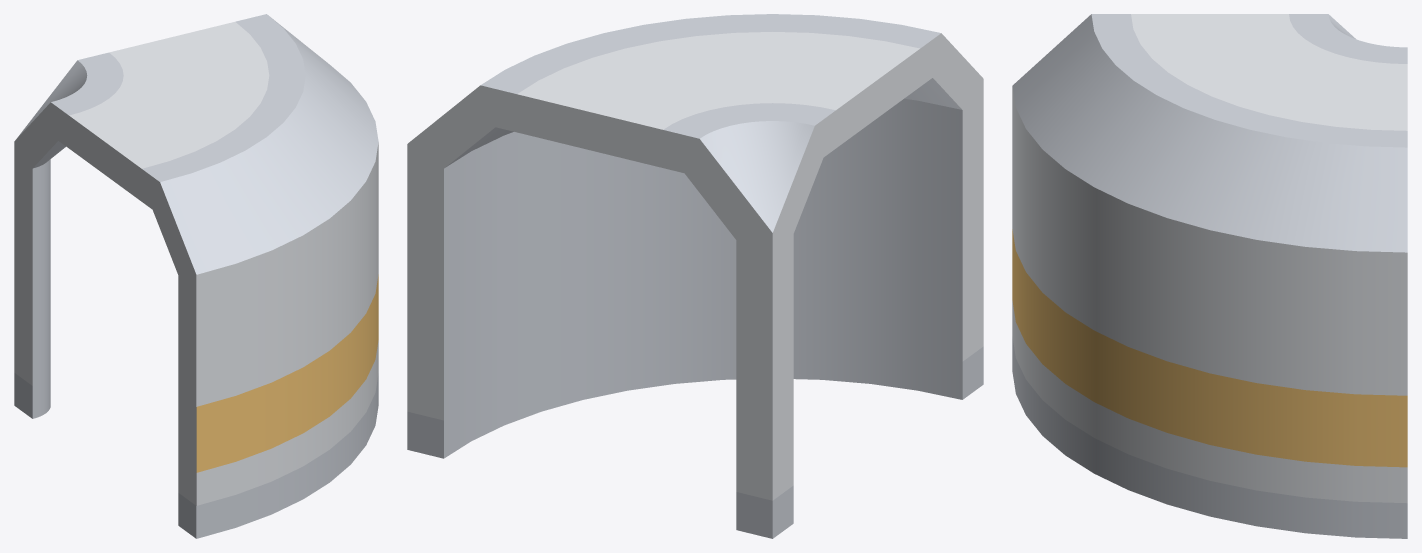
Rendered from corridorcornerRound-col.glb.
3 renders of one model, left to right at view 1: azimuth 30°, elevation 25°; view 2: azimuth 150°, elevation 25°; view 3: azimuth 270°, elevation 25°, orthographic. The views are drawn at different scales.
Visible parts, largest first — view 1: corridorcornerRound-col; view 2: corridorcornerRound-col; view 3: corridorcornerRound-col.
Boxes of the visible parts, x1,y1,x2,y2 form: corridorcornerRound-col: (14, 14, 378, 538); corridorcornerRound-col: (407, 14, 983, 538); corridorcornerRound-col: (1012, 14, 1407, 538).
Bounding box in the file's own units: 1 × 1 × 1.
